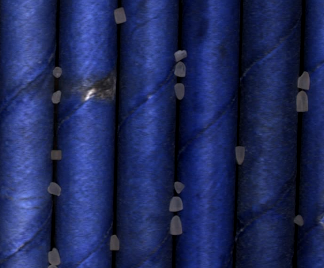broken_grain: (295, 68, 311, 90), (295, 90, 309, 115), (169, 215, 184, 237), (167, 196, 185, 214), (112, 5, 128, 25), (108, 232, 122, 254), (46, 247, 62, 265), (233, 146, 247, 166), (174, 80, 187, 101), (47, 179, 62, 197), (173, 60, 187, 78), (172, 179, 186, 194), (51, 88, 62, 105), (292, 215, 306, 226), (52, 65, 62, 79)
milky_broken_grain: (174, 48, 188, 61)
yellow_grain: (49, 147, 64, 164)
